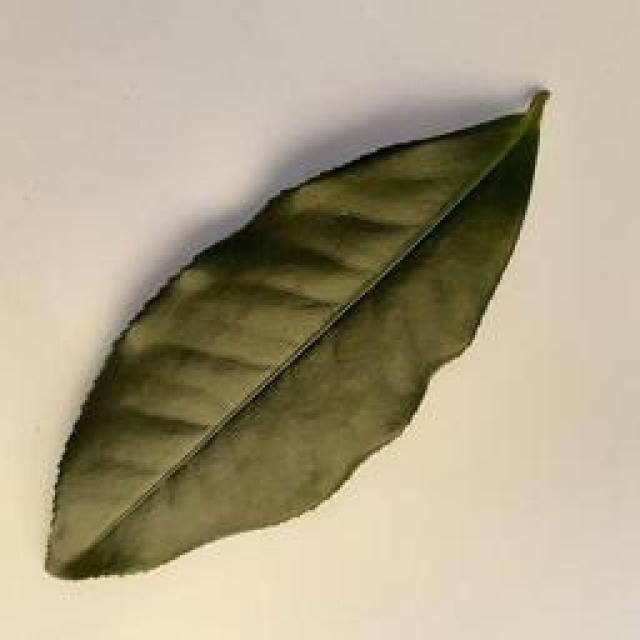Healthy: (40, 83, 549, 584)
